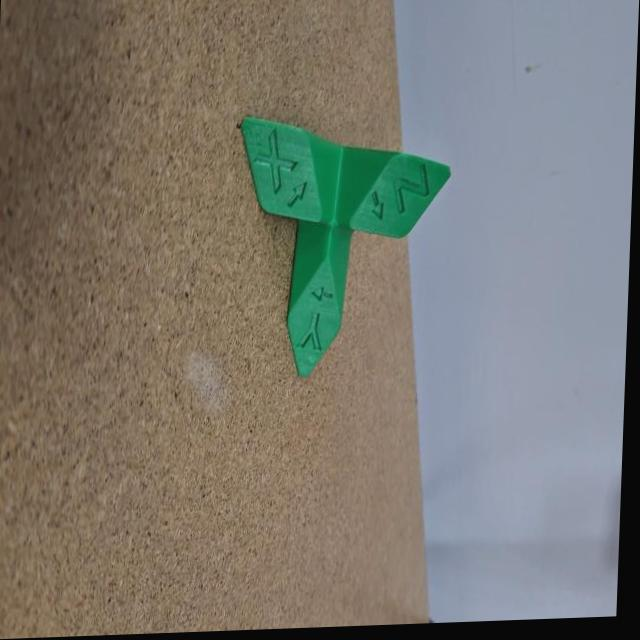eje: (228, 102, 459, 388)
